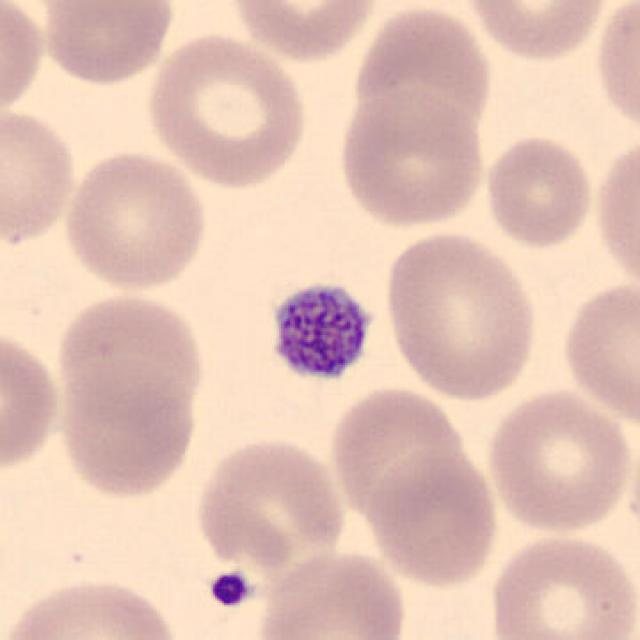Platelets: (263, 277, 377, 388), (204, 568, 256, 610)
RBC: (379, 225, 542, 404), (142, 28, 313, 190), (482, 384, 634, 538), (190, 432, 350, 576), (58, 146, 212, 294), (334, 85, 489, 231), (52, 289, 210, 427), (348, 0, 496, 145), (325, 383, 471, 527), (53, 360, 203, 500), (363, 444, 503, 591), (486, 529, 636, 640), (252, 546, 410, 640), (480, 131, 597, 252), (36, 0, 178, 88), (556, 277, 638, 428), (2, 573, 183, 640), (0, 102, 80, 250), (0, 321, 64, 479), (224, 0, 382, 63), (460, 0, 613, 63), (590, 131, 638, 296), (592, 0, 638, 138), (0, 0, 48, 122)
